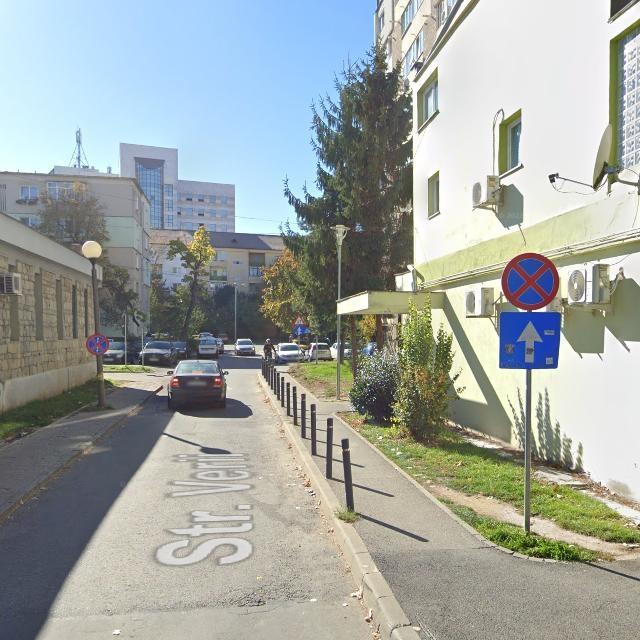forb_waiting: (502, 253, 560, 311), (85, 333, 109, 356)
